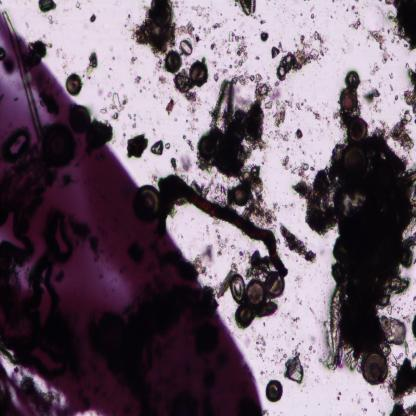Background material: (301, 130, 416, 377), (125, 1, 177, 51), (247, 177, 280, 233), (385, 0, 416, 56), (281, 226, 318, 263), (388, 110, 416, 154), (387, 359, 416, 400), (276, 47, 310, 81), (366, 27, 396, 64), (204, 172, 232, 208), (184, 89, 204, 134), (380, 312, 408, 344), (282, 352, 307, 386), (246, 248, 268, 280), (192, 242, 214, 274), (405, 60, 416, 118), (126, 131, 148, 158), (254, 79, 281, 101), (174, 68, 193, 99), (254, 296, 279, 318), (291, 182, 314, 204), (26, 39, 50, 60), (364, 88, 384, 113), (332, 104, 348, 134), (109, 89, 125, 119), (389, 399, 416, 416), (231, 70, 255, 87), (214, 230, 229, 256), (84, 51, 99, 77), (38, 0, 61, 16), (291, 159, 310, 178), (177, 151, 192, 174), (212, 58, 226, 82), (195, 158, 214, 174), (177, 22, 196, 38), (260, 130, 273, 152), (151, 138, 165, 158), (273, 106, 285, 128), (387, 352, 403, 368), (271, 347, 285, 365), (270, 42, 284, 60), (256, 336, 266, 360), (233, 53, 248, 69), (235, 35, 246, 56), (56, 51, 68, 70), (156, 73, 170, 89), (298, 32, 312, 48), (274, 130, 292, 142), (211, 35, 221, 56), (183, 136, 196, 151), (191, 3, 204, 18), (192, 181, 205, 196), (154, 54, 162, 78), (171, 157, 181, 176), (367, 62, 381, 75), (310, 48, 320, 66), (347, 18, 361, 30), (167, 96, 176, 114), (127, 113, 138, 127), (281, 156, 292, 170), (402, 339, 410, 357), (383, 344, 392, 359), (314, 31, 324, 44), (315, 318, 328, 328), (192, 34, 202, 47), (46, 15, 56, 27), (294, 128, 304, 140), (318, 44, 328, 56), (96, 86, 106, 98), (251, 165, 260, 178), (211, 20, 224, 29), (151, 170, 158, 186), (291, 344, 301, 355), (154, 118, 160, 136), (203, 26, 212, 38), (240, 246, 247, 261), (264, 99, 273, 110), (131, 75, 142, 84), (280, 100, 292, 108), (260, 32, 270, 41), (230, 262, 239, 272), (228, 31, 236, 42), (291, 315, 300, 324), (402, 314, 412, 322), (203, 14, 211, 24), (264, 111, 270, 124), (294, 296, 302, 305), (226, 43, 232, 55), (89, 14, 96, 24), (313, 110, 320, 120), (282, 3, 288, 14), (255, 74, 263, 82), (130, 56, 138, 64), (220, 38, 228, 46), (164, 140, 171, 148), (295, 275, 302, 283), (250, 13, 258, 20), (172, 1, 179, 9), (380, 6, 385, 17), (76, 1, 82, 10), (387, 306, 393, 314), (324, 118, 330, 126), (304, 354, 310, 362), (389, 71, 395, 79), (341, 47, 347, 55), (371, 119, 376, 128), (379, 384, 388, 389), (102, 106, 107, 115), (411, 352, 416, 361), (306, 106, 313, 112), (284, 312, 290, 319), (389, 84, 394, 92), (285, 203, 293, 208), (198, 24, 202, 34), (205, 228, 210, 236), (362, 408, 368, 414), (311, 166, 317, 172), (309, 306, 314, 313), (227, 316, 232, 323), (300, 23, 307, 28), (109, 45, 114, 52), (302, 150, 307, 157), (379, 80, 383, 88), (358, 397, 362, 405), (218, 50, 222, 58), (380, 411, 386, 416), (282, 297, 288, 302), (296, 103, 301, 109), (260, 19, 266, 24), (261, 159, 265, 166), (324, 103, 329, 108), (385, 29, 390, 34), (232, 245, 237, 250), (308, 345, 313, 350), (228, 64, 233, 69), (260, 369, 264, 375), (367, 78, 371, 84), (262, 322, 266, 328), (154, 94, 158, 100), (352, 5, 356, 11), (396, 94, 399, 102), (380, 26, 384, 32), (292, 13, 296, 19), (107, 74, 111, 79), (120, 82, 124, 87), (391, 38, 395, 43), (367, 392, 372, 396), (256, 55, 260, 60), (258, 14, 263, 18), (413, 295, 416, 301), (311, 13, 314, 19), (276, 100, 279, 106), (174, 117, 178, 121), (300, 102, 304, 106), (292, 92, 294, 100), (355, 12, 359, 16), (108, 67, 112, 71), (286, 148, 290, 152), (338, 392, 342, 396), (266, 76, 270, 80), (143, 85, 146, 90), (354, 0, 359, 3), (310, 6, 313, 11), (330, 14, 333, 19), (148, 79, 151, 84), (371, 398, 374, 403), (300, 12, 303, 17), (362, 23, 364, 30), (139, 89, 142, 93), (254, 33, 258, 36), (220, 12, 223, 16), (284, 330, 287, 334), (307, 31, 311, 34), (112, 56, 115, 60), (378, 409, 381, 413), (208, 5, 210, 11), (346, 8, 349, 12), (337, 396, 340, 400), (351, 398, 354, 402), (376, 397, 378, 402), (204, 44, 206, 49), (379, 0, 382, 3), (332, 0, 335, 3), (398, 307, 401, 310), (339, 413, 342, 416), (233, 18, 236, 21), (313, 350, 316, 353), (304, 98, 306, 102), (296, 326, 298, 330), (250, 41, 252, 45), (266, 2, 268, 6), (294, 38, 296, 42), (177, 14, 181, 16), (313, 20, 315, 23), (397, 311, 399, 314), (343, 4, 345, 7), (319, 57, 321, 60), (399, 298, 402, 300), (292, 338, 295, 340), (320, 152, 322, 155), (268, 0, 271, 2), (296, 44, 298, 47), (368, 45, 370, 47), (336, 17, 338, 19), (304, 0, 306, 2), (362, 6, 364, 8), (243, 31, 245, 33), (358, 44, 360, 46), (231, 57, 233, 59), (274, 2, 276, 4), (335, 11, 336, 14), (235, 28, 236, 31), (308, 0, 310, 1), (311, 28, 312, 30), (281, 37, 282, 39), (222, 49, 223, 51)
Diatom: (134, 180, 162, 226), (210, 80, 233, 130), (216, 140, 244, 174), (363, 350, 388, 385), (344, 146, 368, 178), (188, 60, 209, 89), (346, 115, 367, 143), (264, 270, 286, 296), (229, 272, 246, 304), (234, 301, 254, 328), (246, 278, 265, 306), (196, 134, 217, 158), (152, 1, 172, 26), (266, 378, 284, 403), (218, 270, 234, 297), (340, 88, 358, 112), (235, 0, 258, 18), (165, 49, 182, 73), (65, 74, 84, 94), (233, 184, 250, 204), (344, 70, 361, 88), (180, 40, 192, 57), (411, 314, 416, 339), (243, 171, 252, 183)
Natural material: (160, 174, 284, 271)
Pen: (0, 31, 265, 416)
